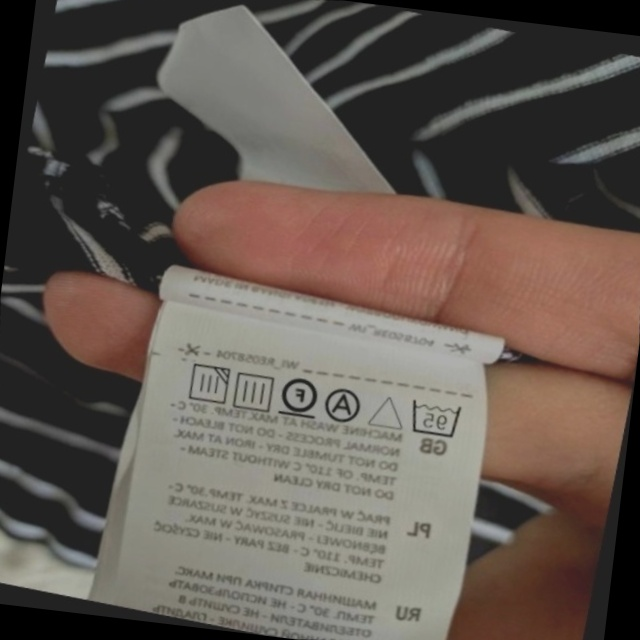95C: (399, 387, 470, 448)
bleach: (362, 384, 413, 439)
drip_dry: (223, 361, 284, 420)
drip_dry_in_shade: (176, 353, 238, 414)
dry_clean: (317, 379, 371, 431)
dry_clean_petrol_only: (271, 365, 327, 426)
